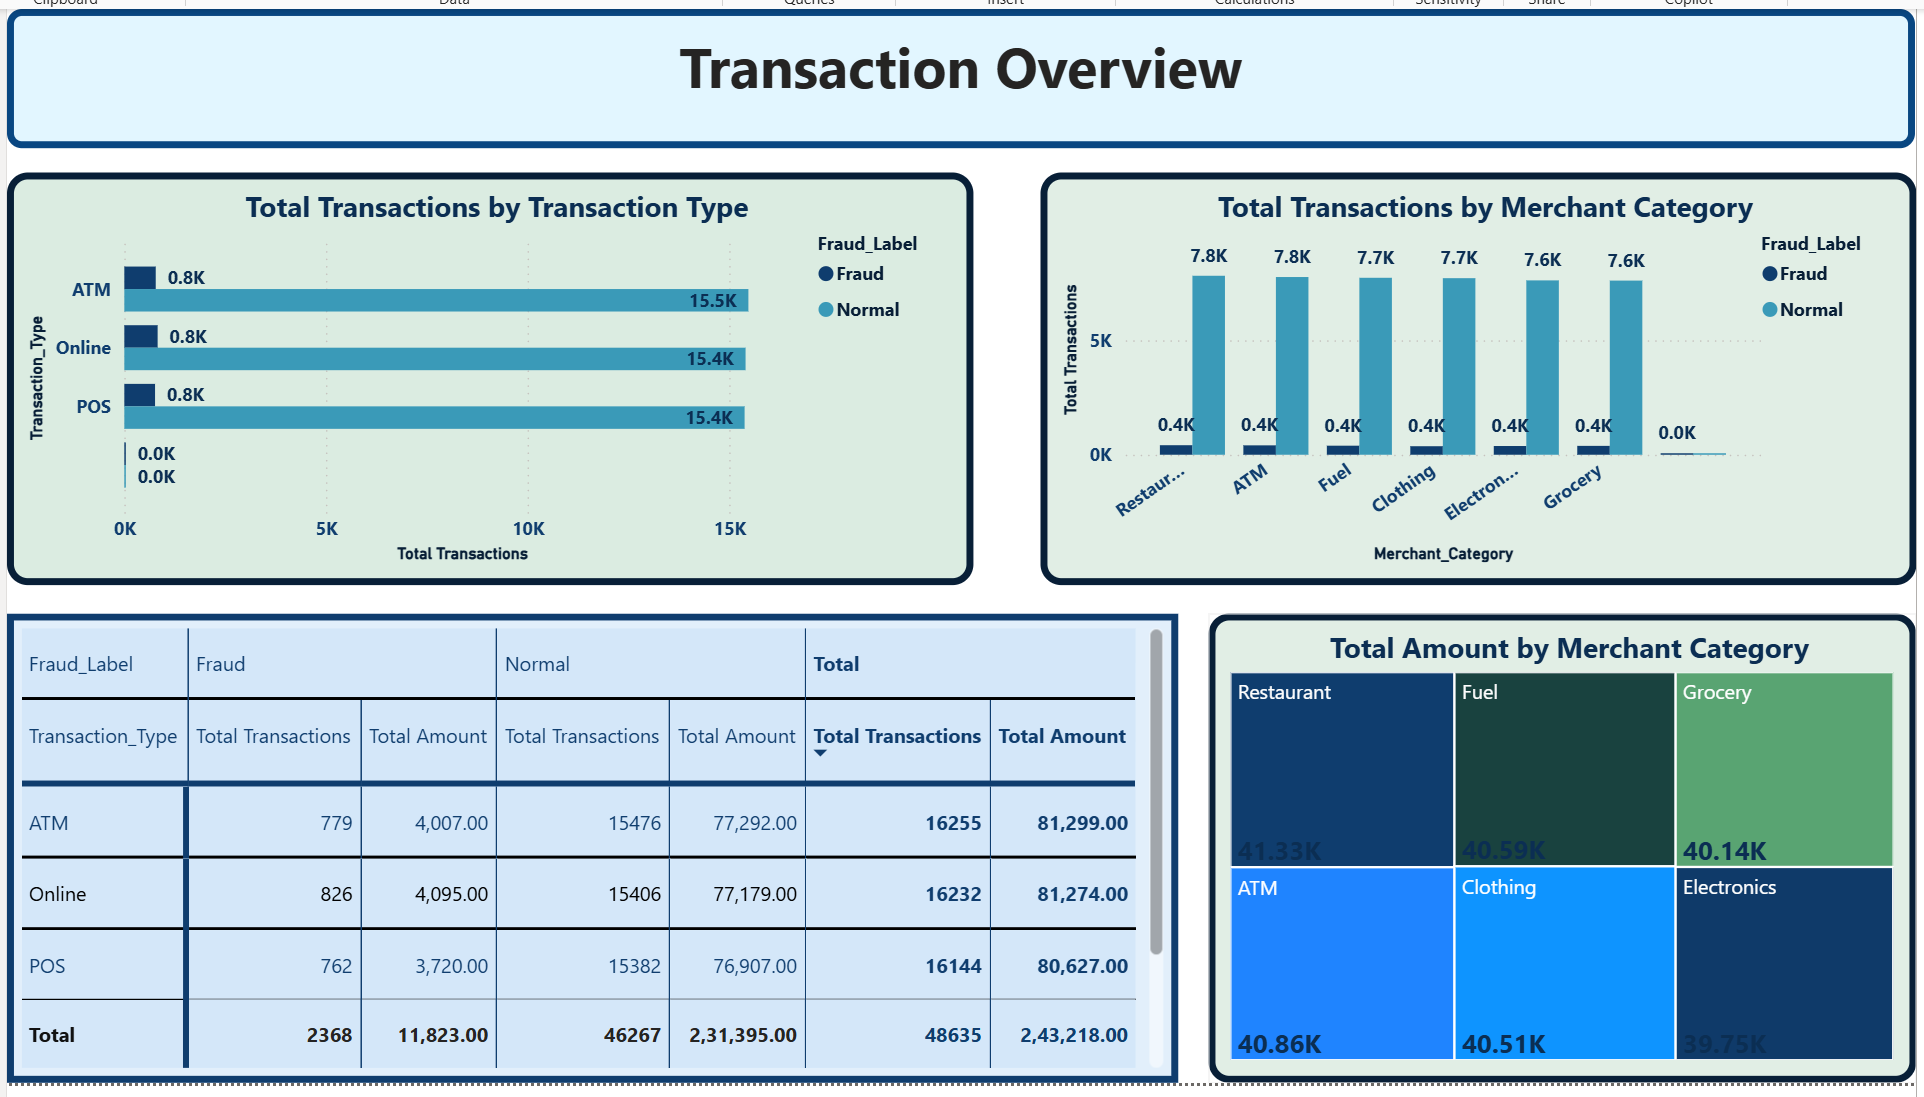

This screenshot's page, from the dashboard's own definition file:
{"tool":"powerbi","page":{"name":"Transaction Overview","canvas":[1280,720],"ordinal":2},"visuals":[{"type":"textbox","box":[0,0,1279.6,93],"z":0},{"type":"clusteredBarChart","title":"Total Transactions by Transaction Type ","fields":{"Category":["FactTransactions.Transaction_Type"],"Y":["FactTransactions.Total Transactions"],"Series":["FactTransactions.Fraud_Label"]},"box":[0,109.6,647.7,276.6],"z":1000},{"type":"clusteredColumnChart","title":"Total Transactions by Merchant Category ","fields":{"Category":["FactTransactions.Merchant_Category"],"Y":["FactTransactions.Total Transactions"],"Series":["FactTransactions.Fraud_Label"]},"box":[693,109.6,587.4,276.6],"z":2000},{"type":"pivotTable","fields":{"Rows":["FactTransactions.Transaction_Type"],"Columns":["FactTransactions.Fraud_Label"],"Values":["FactTransactions.Total Transactions","FactTransactions.Total Amount"]},"box":[0,405.3,785.5,314.8],"z":3000},{"type":"treemap","title":"Total Amount by Merchant Category","fields":{"Group":["FactTransactions.Merchant_Category"],"Values":["FactTransactions.Total Amount"]},"box":[805.6,405.3,474.7,314.8],"z":4000}]}

Visuals, with their boxes in screenshot pixels (x1, y1, x2, y2):
textbox: <bbox>10, 5, 1907, 143</bbox>
"Total Transactions by Transaction Type " clusteredBarChart: <bbox>10, 167, 970, 577</bbox>
"Total Transactions by Merchant Category " clusteredColumnChart: <bbox>1037, 167, 1908, 577</bbox>
pivotTable - FactTransactions.Transaction_Type x FactTransactions.Fraud_Label: <bbox>10, 606, 1174, 1072</bbox>
"Total Amount by Merchant Category" treemap: <bbox>1204, 606, 1908, 1072</bbox>
